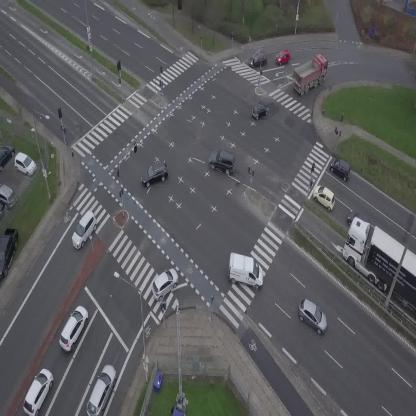car: (81, 362, 121, 416), (54, 303, 94, 353), (18, 366, 58, 416), (291, 297, 334, 335), (65, 209, 103, 251), (145, 264, 184, 303), (205, 146, 240, 177), (137, 159, 171, 188), (309, 183, 340, 212), (326, 154, 356, 182), (249, 100, 271, 122), (345, 207, 369, 225), (247, 50, 269, 68), (273, 48, 292, 66)
lorry: (285, 51, 337, 97), (224, 252, 268, 291)
